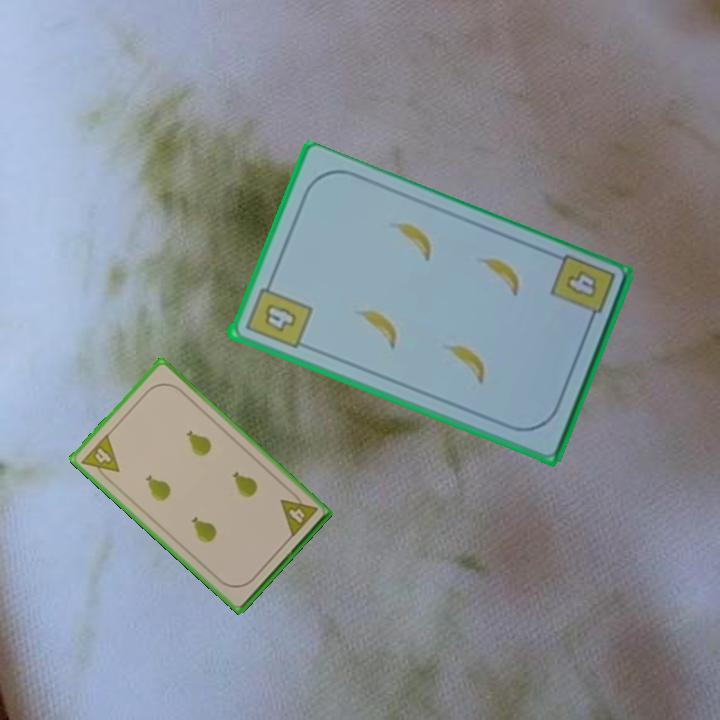4b: (546, 251, 618, 330), (241, 276, 314, 352)
4p: (78, 430, 122, 485), (277, 487, 320, 540)
